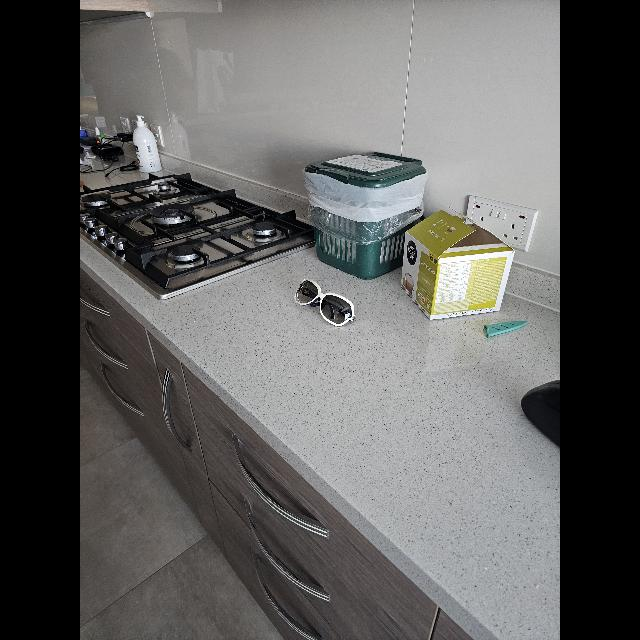Sunglasses: (295, 280, 355, 326)
